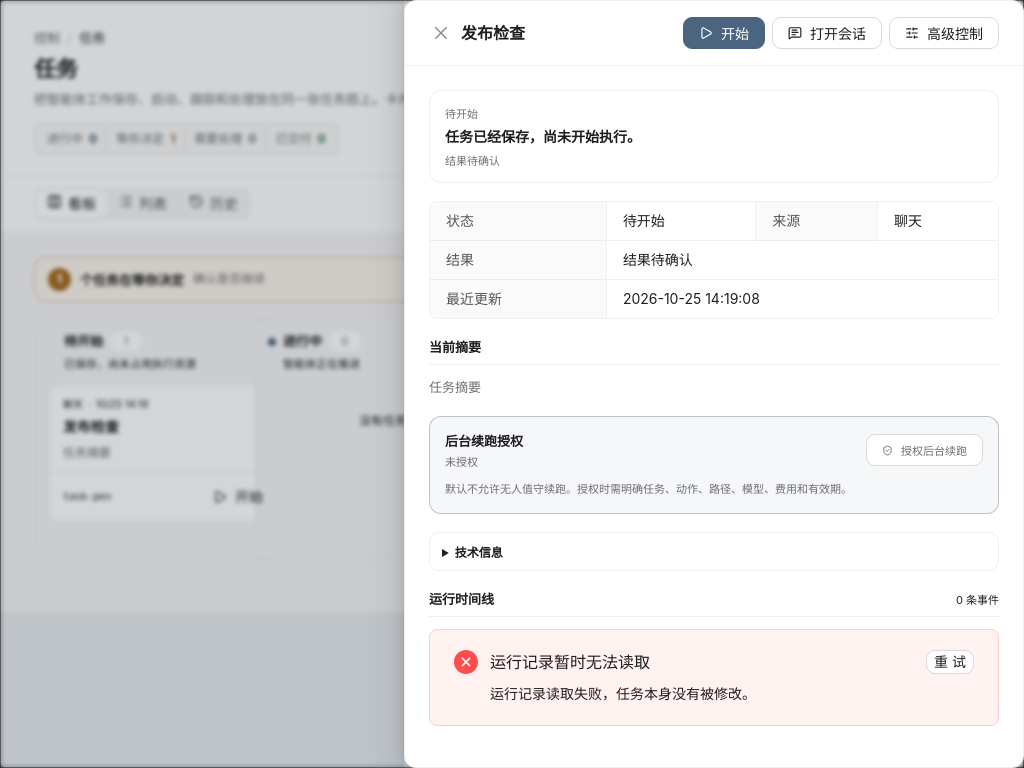
Test: TaskCenterV2Page › separates an event loading error from an empty timeline and can retry
Expected: the text "运行记录暂时无法读取" is shown, [490, 652, 650, 672]
Expected: the text "任务尚未产生运行事件" is not shown
Click the button named "重试读取运行记录".
click(950, 662)  # box [926, 650, 974, 674]
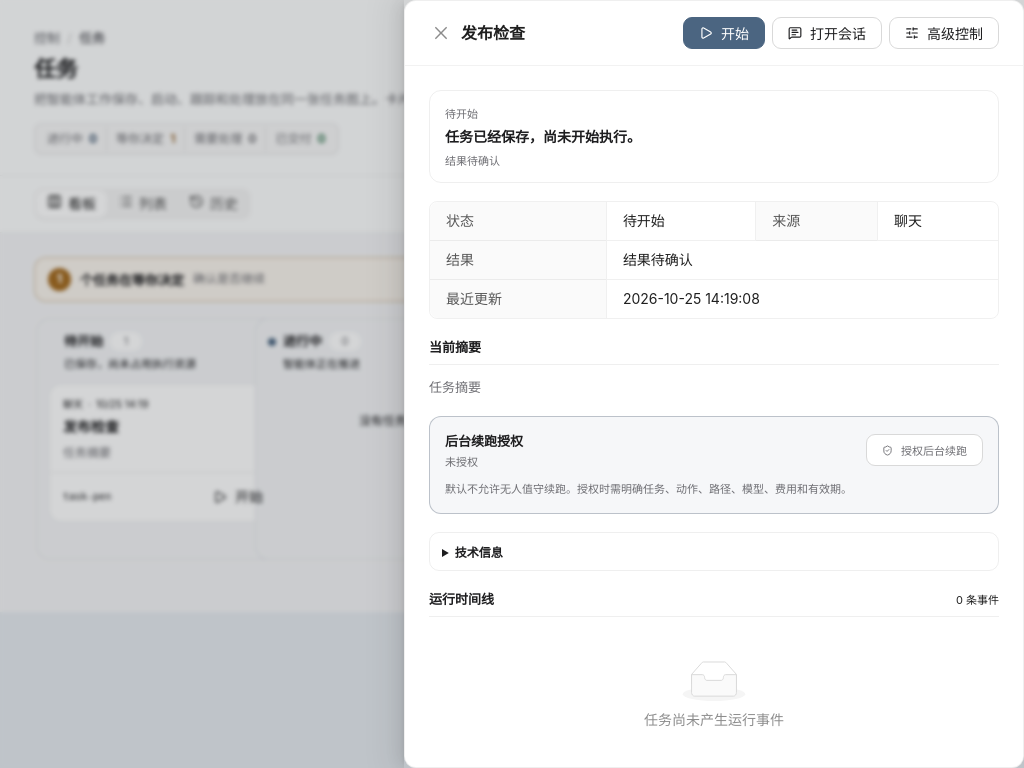
Now the text "任务尚未产生运行事件" is shown, box [644, 711, 784, 728]
